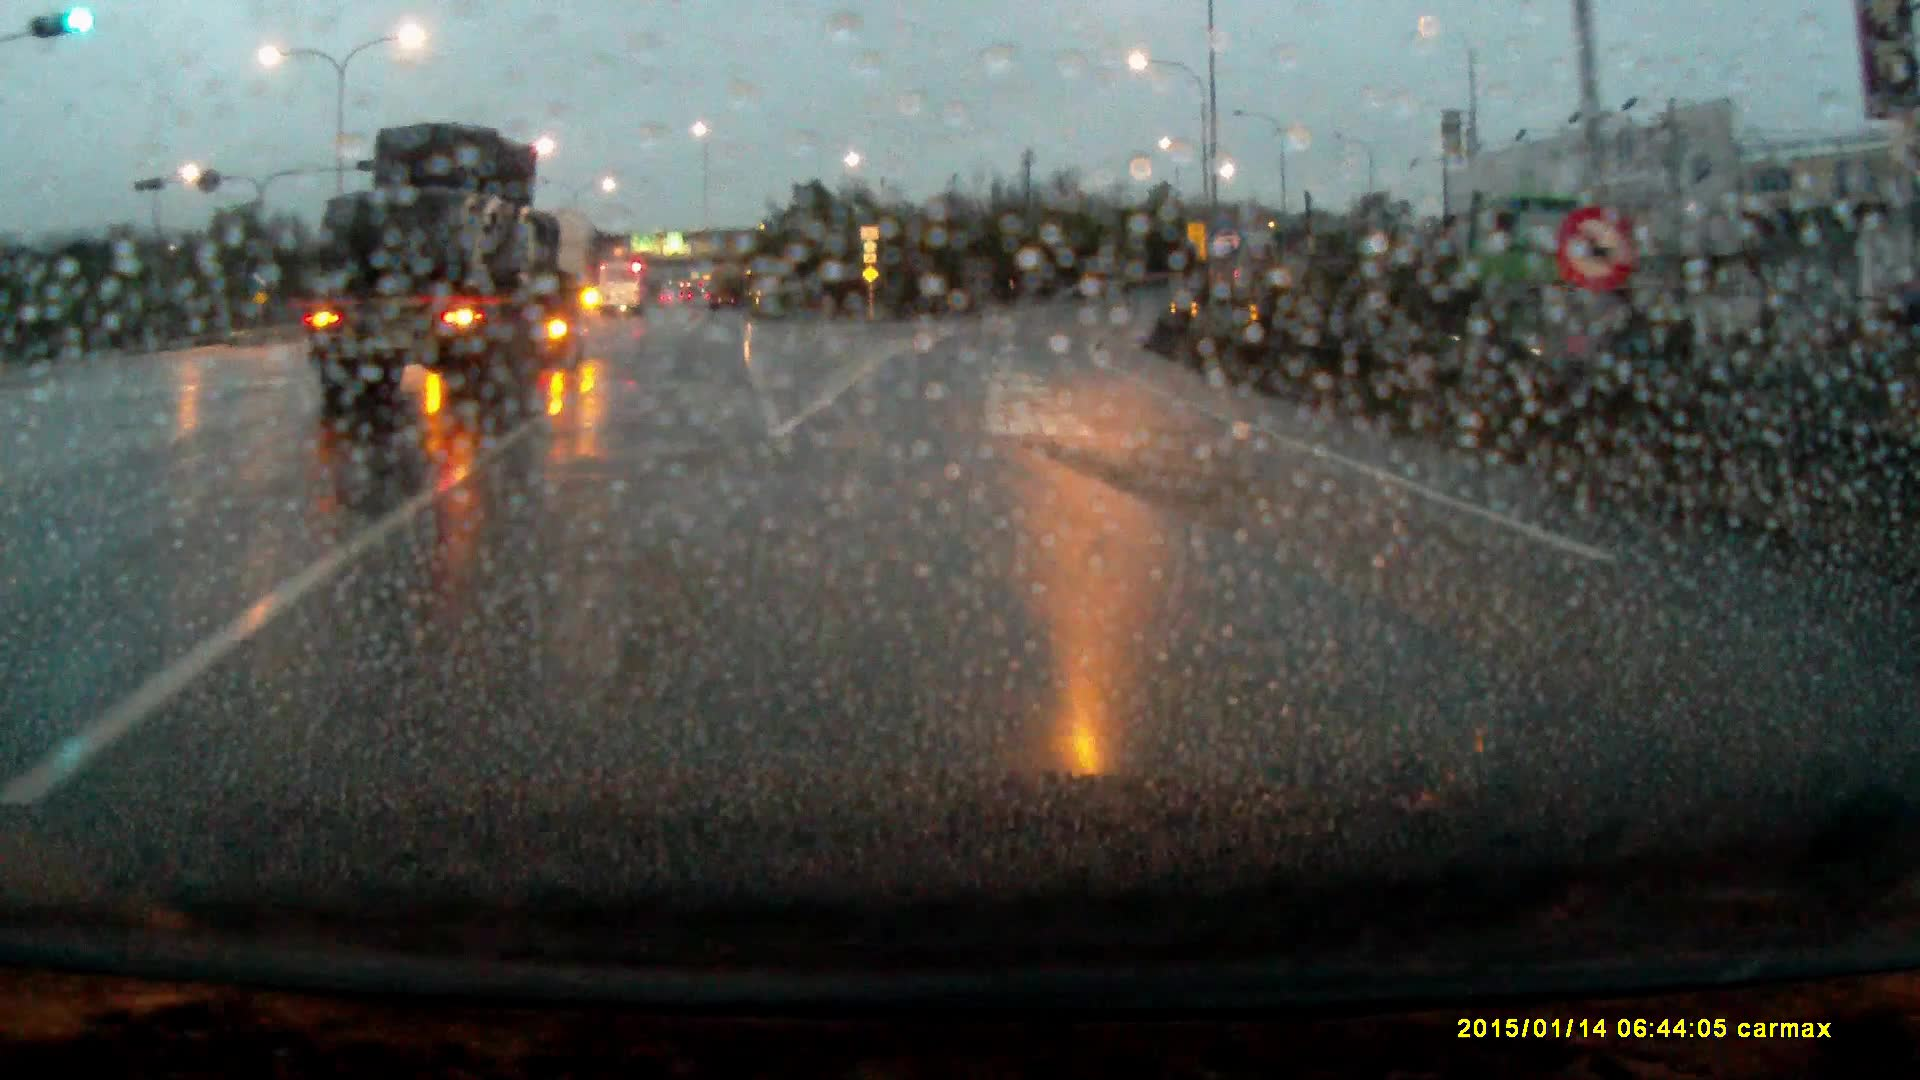vehicle: (299, 129, 601, 419), (599, 264, 655, 320)
